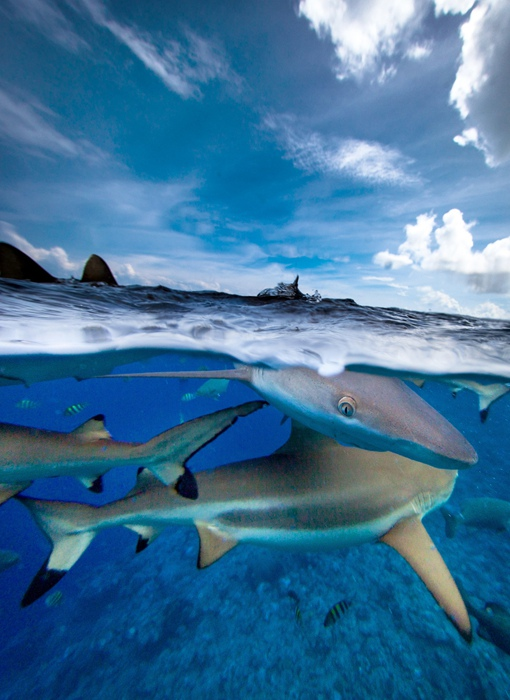shark: (1, 405, 487, 643), (1, 392, 278, 507)
